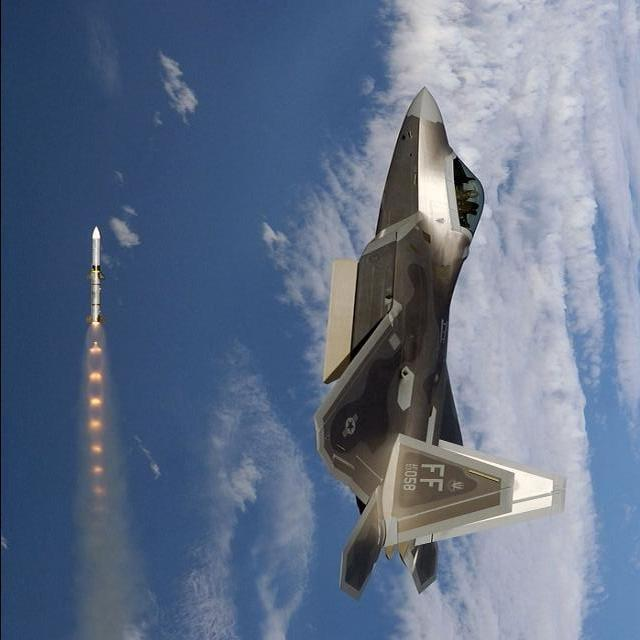missile: (82, 222, 112, 326)
